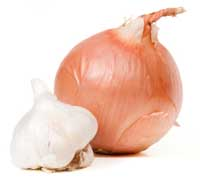onion: (55, 6, 186, 153)
